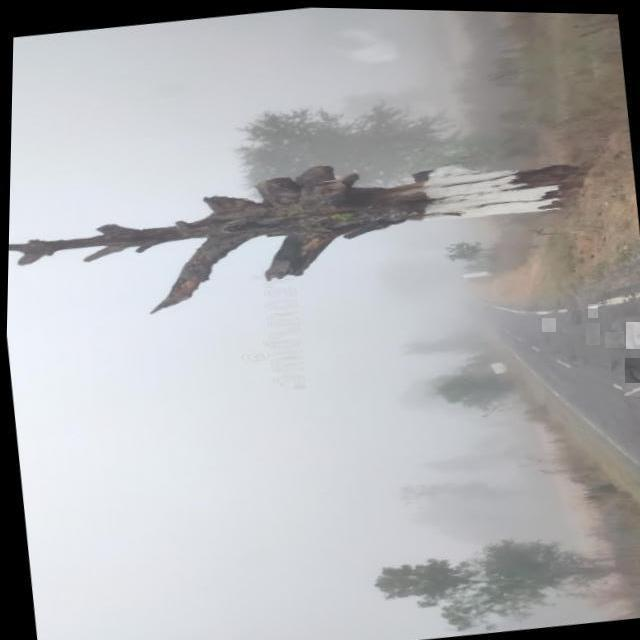Pothole: (626, 322, 640, 349), (625, 358, 640, 383), (586, 323, 600, 345), (605, 332, 624, 348), (622, 383, 640, 396), (611, 354, 624, 372), (542, 318, 556, 332), (572, 310, 582, 324), (588, 304, 598, 318)
